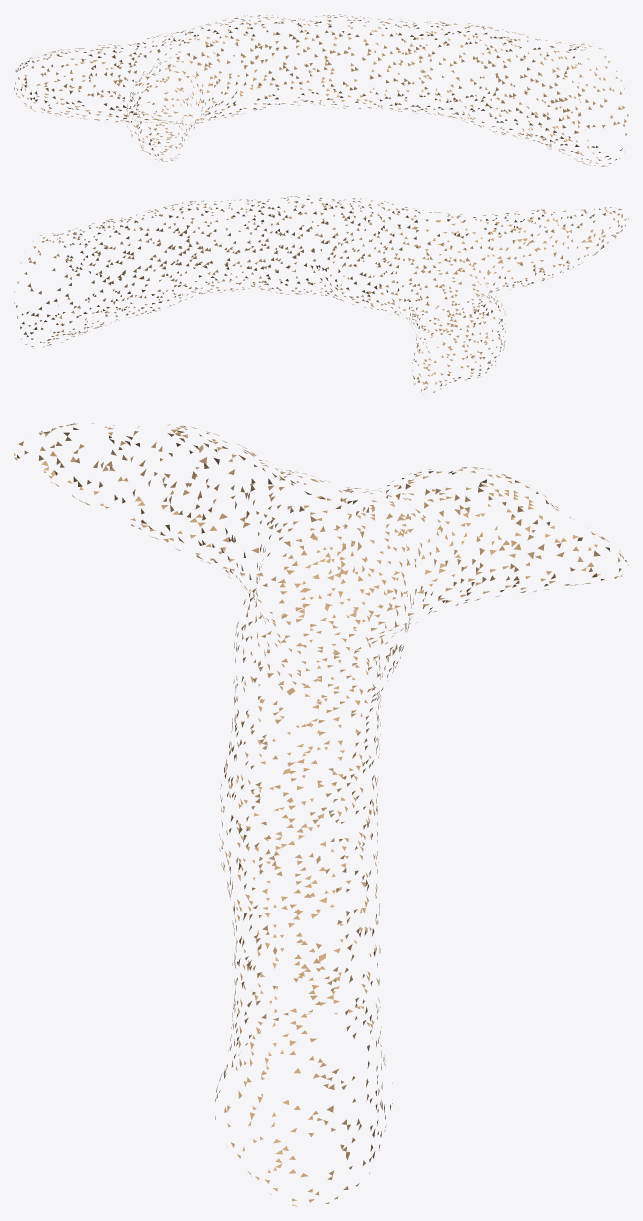
Rendered from morph_006.glb.
3 views of the same model, one above another, from view 1: azimuth 30°, elevation 25°; view 2: azimuth 150°, elevation 25°; view 3: azimuth 270°, elevation 25° (orthographic). The views are drawn at different scales.
Bounding box in the file's own units: 103 × 43.15 × 61.6.
